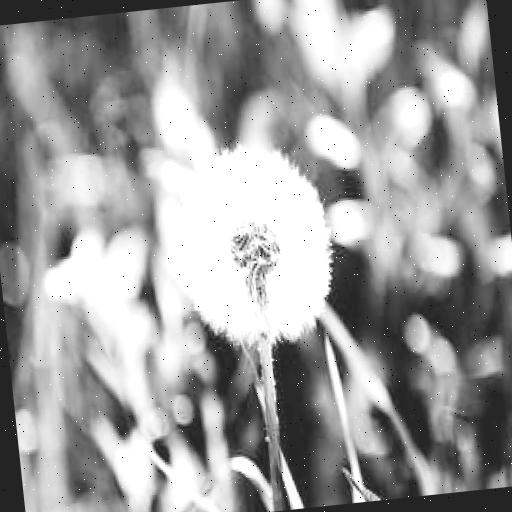dandelion: (175, 143, 334, 340)
